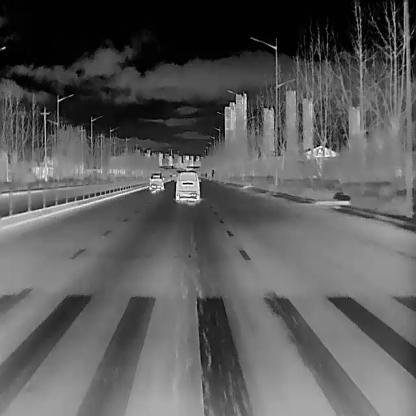car: (175, 172, 201, 202), (149, 172, 164, 190)
